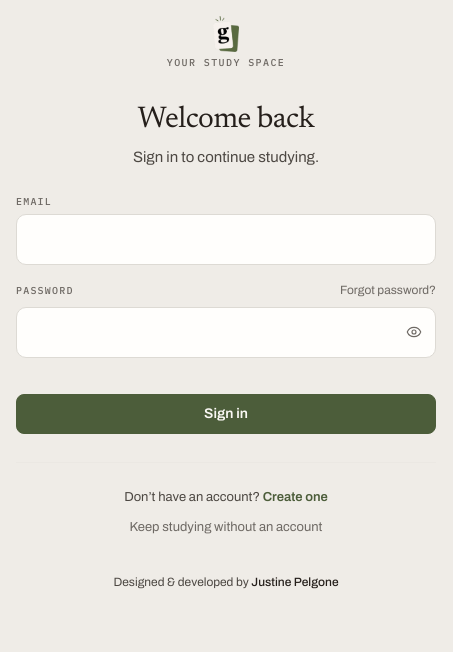
Scenario: signing in › shows what went wrong inline, and stays put
The image size is (453, 652).
Type "reader@example.com" into the field labelled "Email" at [226, 239], box [16,214,436,265]
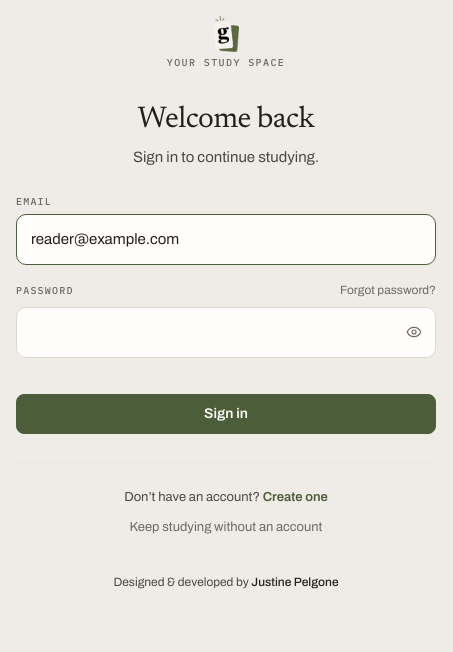
Type "wrong" into the password field labelled "Password" at [226, 332], box [16,307,436,358]
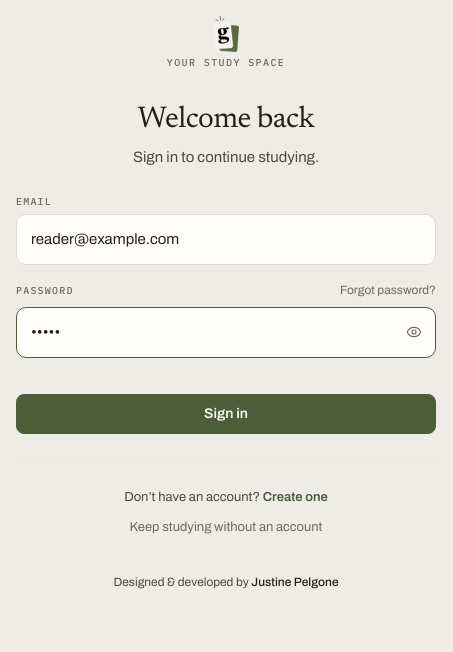
Click the button "Sign in" at [226, 414], box [16,394,436,434]
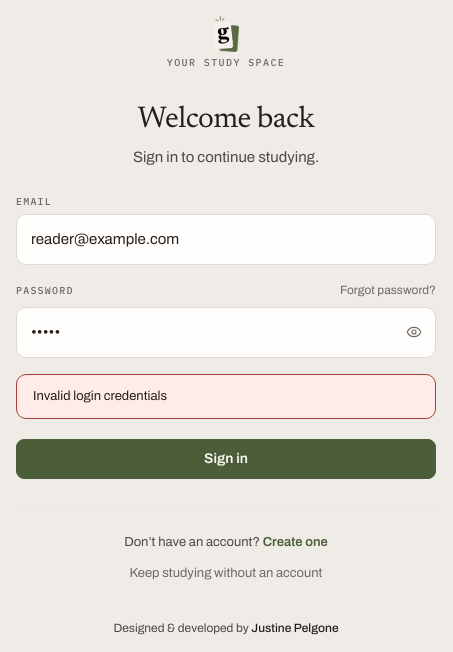
Expected: the button "Sign in" is enabled, [16,439,436,479]
Now the message "Invalid login credentials" is shown, box [16,374,436,419]
